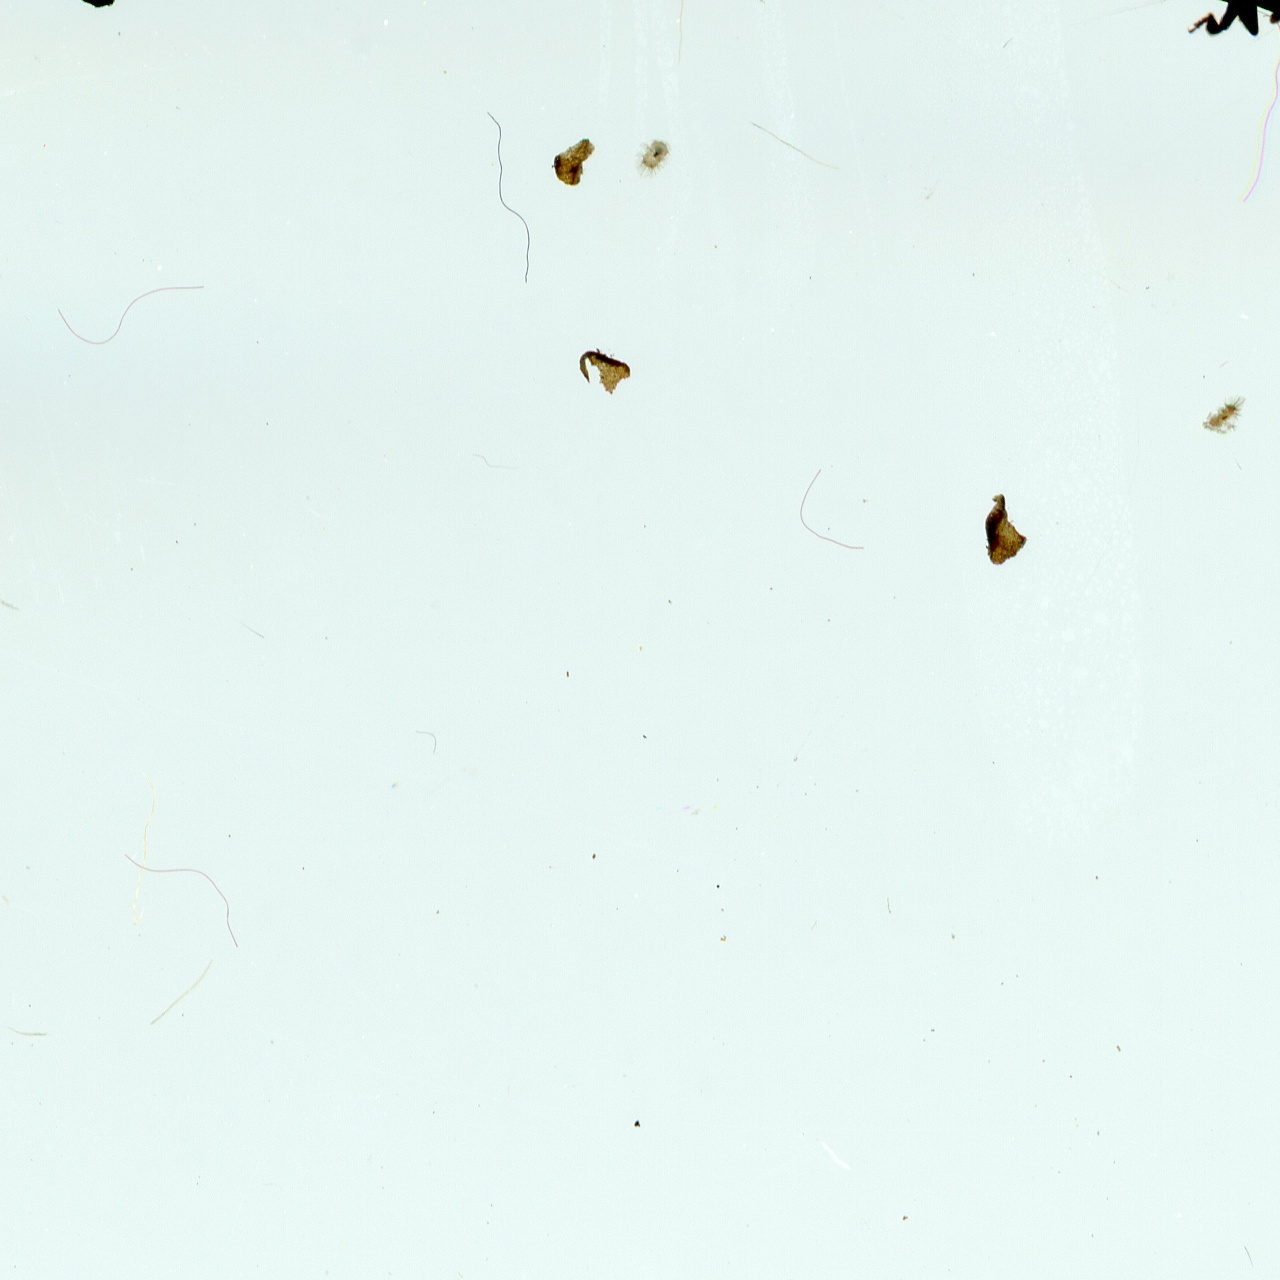arthropod: (1090, 0, 1280, 36), (1196, 394, 1251, 436), (636, 136, 668, 170)
